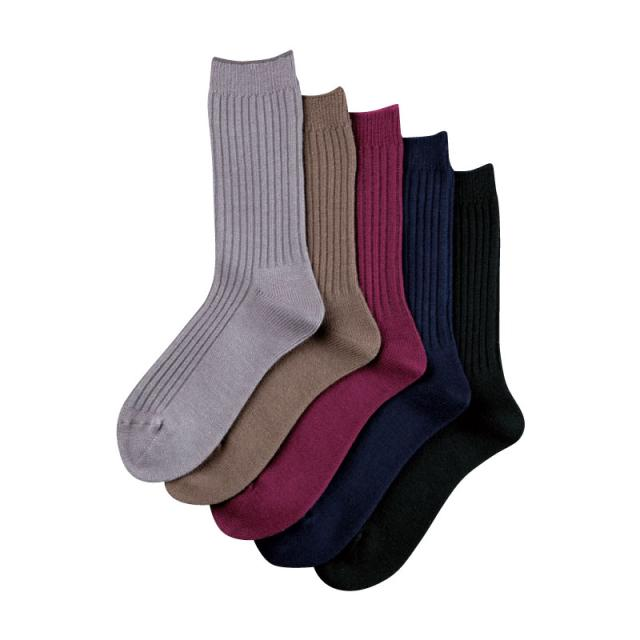sock: (115, 49, 326, 484), (314, 154, 524, 590)
